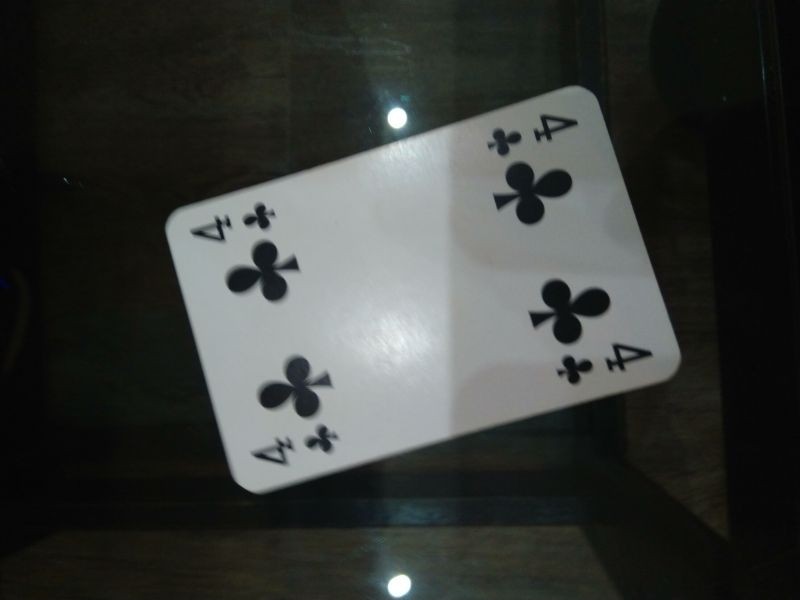4c: (484, 103, 584, 159), (247, 419, 343, 474), (554, 339, 654, 389), (189, 196, 280, 245)
